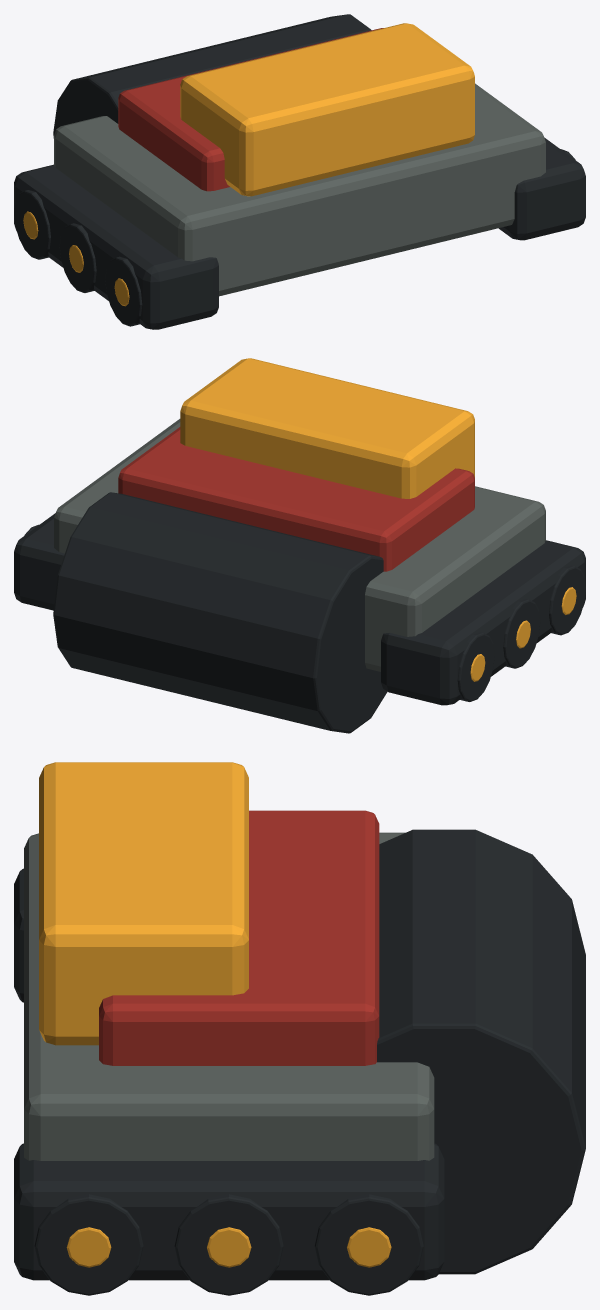
Rendered from SM_Soviet_SU_BogatyrOreCarrier.fbx.
3 views of the same model, one above another, from view 1: azimuth 30°, elevation 25°; view 2: azimuth 150°, elevation 25°; view 3: azimuth 270°, elevation 25° (orthographic). The views are drawn at different scales.
Visible parts, largest first — view 1: SM_Soviet_SU_BogatyrOreCarrier, SM_Soviet_SU_BogatyrOreCarrier_OreBin, SM_Soviet_SU_BogatyrOreCarrier_Track_-1, SM_Soviet_SU_BogatyrOreCarrier_Excavator, SM_Soviet_SU_BogatyrOreCarrier_UpperHull, SM_Soviet_SU_BogatyrOreCarrier_Track_+1, SM_Soviet_SU_BogatyrOreCarrier_Wheel_00, SM_Soviet_SU_BogatyrOreCarrier_Wheel_00.001, SM_Soviet_SU_BogatyrOreCarrier_Wheel_01; view 2: SM_Soviet_SU_BogatyrOreCarrier_Excavator, SM_Soviet_SU_BogatyrOreCarrier_OreBin, SM_Soviet_SU_BogatyrOreCarrier_UpperHull, SM_Soviet_SU_BogatyrOreCarrier, SM_Soviet_SU_BogatyrOreCarrier_Track_-1, SM_Soviet_SU_BogatyrOreCarrier_Track_+1, SM_Soviet_SU_BogatyrOreCarrier_Wheel_00, SM_Soviet_SU_BogatyrOreCarrier_Wheel_00.001, SM_Soviet_SU_BogatyrOreCarrier_Wheel_01; view 3: SM_Soviet_SU_BogatyrOreCarrier_Excavator, SM_Soviet_SU_BogatyrOreCarrier_OreBin, SM_Soviet_SU_BogatyrOreCarrier, SM_Soviet_SU_BogatyrOreCarrier_UpperHull, SM_Soviet_SU_BogatyrOreCarrier_Track_+1, SM_Soviet_SU_BogatyrOreCarrier_Wheel_05, SM_Soviet_SU_BogatyrOreCarrier_Wheel_04, SM_Soviet_SU_BogatyrOreCarrier_Wheel_04.001, SM_Soviet_SU_BogatyrOreCarrier_Hub_04, SM_Soviet_SU_BogatyrOreCarrier_Hub_04.001, SM_Soviet_SU_BogatyrOreCarrier_Hub_05, SM_Soviet_SU_BogatyrOreCarrier_Track_-1.
Part boxes in pixels (left/top/right/bottom): SM_Soviet_SU_BogatyrOreCarrier: left=54, top=83, right=545, bottom=296; SM_Soviet_SU_BogatyrOreCarrier_OreBin: left=180, top=23, right=474, bottom=196; SM_Soviet_SU_BogatyrOreCarrier_Track_-1: left=14, top=164, right=218, bottom=329; SM_Soviet_SU_BogatyrOreCarrier_Excavator: left=53, top=14, right=371, bottom=138; SM_Soviet_SU_BogatyrOreCarrier_UpperHull: left=118, top=28, right=383, bottom=191; SM_Soviet_SU_BogatyrOreCarrier_Track_+1: left=499, top=137, right=585, bottom=240; SM_Soviet_SU_BogatyrOreCarrier_Wheel_00: left=105, top=256, right=142, bottom=326; SM_Soviet_SU_BogatyrOreCarrier_Wheel_00.001: left=59, top=223, right=96, bottom=292; SM_Soviet_SU_BogatyrOreCarrier_Wheel_01: left=14, top=190, right=50, bottom=259; SM_Soviet_SU_BogatyrOreCarrier_Excavator: left=53, top=492, right=387, bottom=733; SM_Soviet_SU_BogatyrOreCarrier_OreBin: left=180, top=358, right=474, bottom=498; SM_Soviet_SU_BogatyrOreCarrier_UpperHull: left=118, top=427, right=474, bottom=571; SM_Soviet_SU_BogatyrOreCarrier: left=54, top=419, right=545, bottom=671; SM_Soviet_SU_BogatyrOreCarrier_Track_-1: left=381, top=540, right=585, bottom=705; SM_Soviet_SU_BogatyrOreCarrier_Track_+1: left=14, top=513, right=64, bottom=610; SM_Soviet_SU_BogatyrOreCarrier_Wheel_00: left=549, top=565, right=585, bottom=635; SM_Soviet_SU_BogatyrOreCarrier_Wheel_00.001: left=503, top=599, right=540, bottom=668; SM_Soviet_SU_BogatyrOreCarrier_Wheel_01: left=457, top=632, right=494, bottom=701; SM_Soviet_SU_BogatyrOreCarrier_Excavator: left=377, top=829, right=585, bottom=1274; SM_Soviet_SU_BogatyrOreCarrier_OreBin: left=39, top=762, right=248, bottom=1045; SM_Soviet_SU_BogatyrOreCarrier: left=24, top=832, right=434, bottom=1160; SM_Soviet_SU_BogatyrOreCarrier_UpperHull: left=99, top=810, right=379, bottom=1065; SM_Soviet_SU_BogatyrOreCarrier_Track_+1: left=14, top=1143, right=444, bottom=1280; SM_Soviet_SU_BogatyrOreCarrier_Wheel_05: left=314, top=1194, right=423, bottom=1295; SM_Soviet_SU_BogatyrOreCarrier_Wheel_04: left=34, top=1194, right=143, bottom=1295; SM_Soviet_SU_BogatyrOreCarrier_Wheel_04.001: left=174, top=1194, right=283, bottom=1295; SM_Soviet_SU_BogatyrOreCarrier_Hub_04: left=66, top=1227, right=111, bottom=1267; SM_Soviet_SU_BogatyrOreCarrier_Hub_04.001: left=207, top=1227, right=251, bottom=1267; SM_Soviet_SU_BogatyrOreCarrier_Hub_05: left=347, top=1227, right=391, bottom=1267; SM_Soviet_SU_BogatyrOreCarrier_Track_-1: left=14, top=868, right=23, bottom=1002.
Size of what is drawn, in the model's own units: 572 by 412 by 265.
